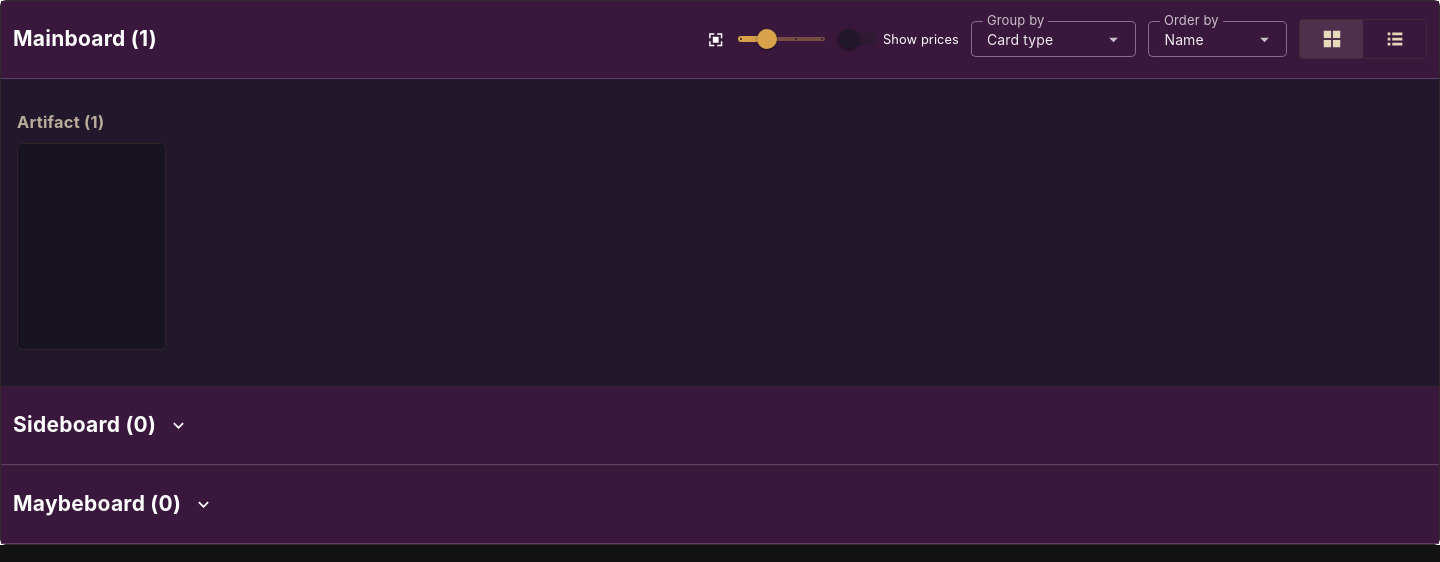
Scenario: DeckPanel › uses compact text-only rows in list view
Click the button named "List view for Mainboard" at (1395,39), box [1363,19,1427,59]
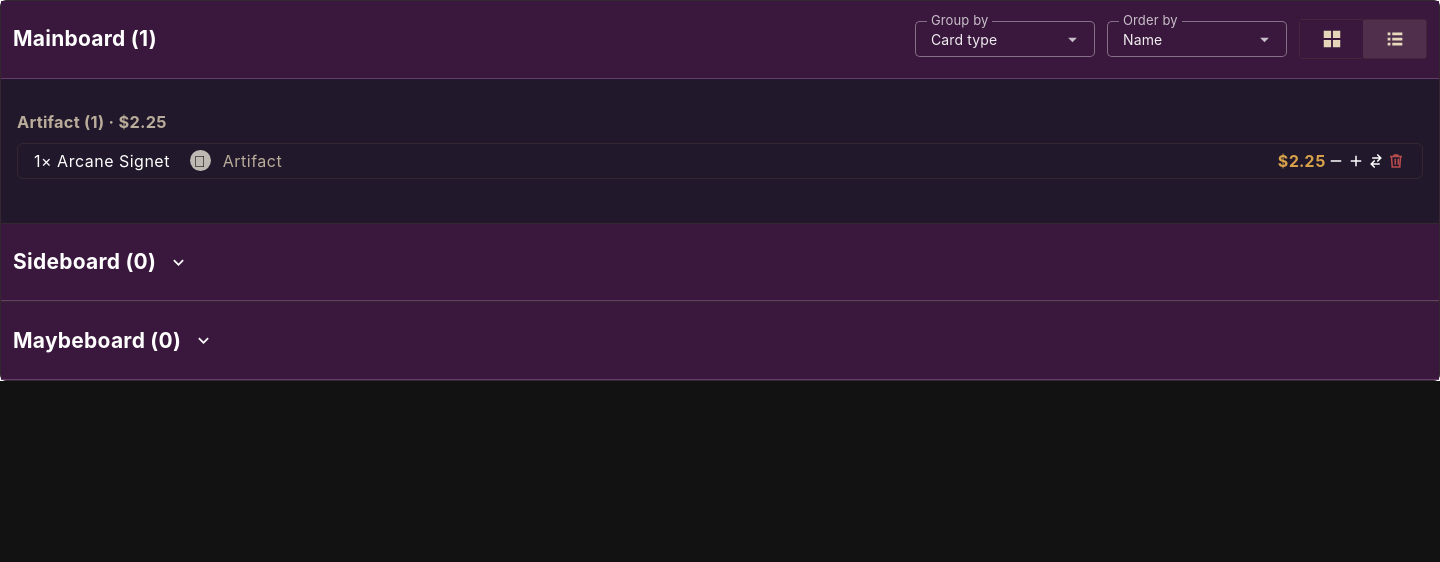
Expected: the text "Arcane Signet" is shown, [34,151,170,171]
Expected: the text "1× Arcane Signet" is shown, [34,149,170,173]
Expected: the text with class "deck-list-price" reads "$2.25", [1278,151,1326,171]
